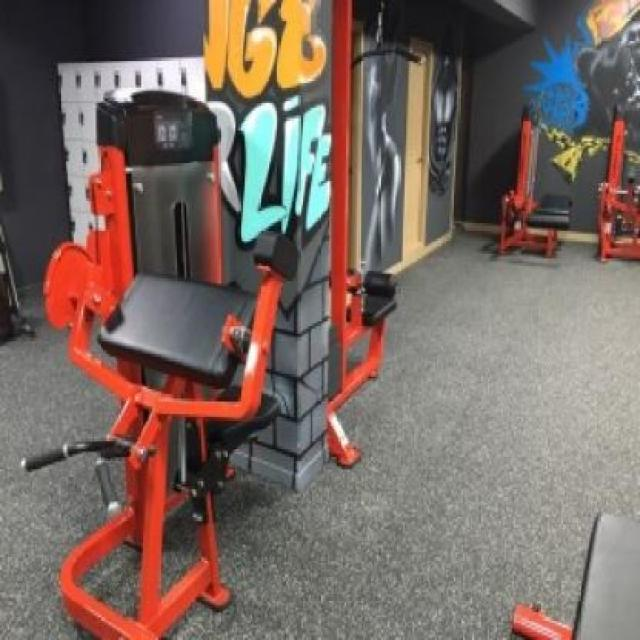arm curl machine: (21, 227, 298, 640)
